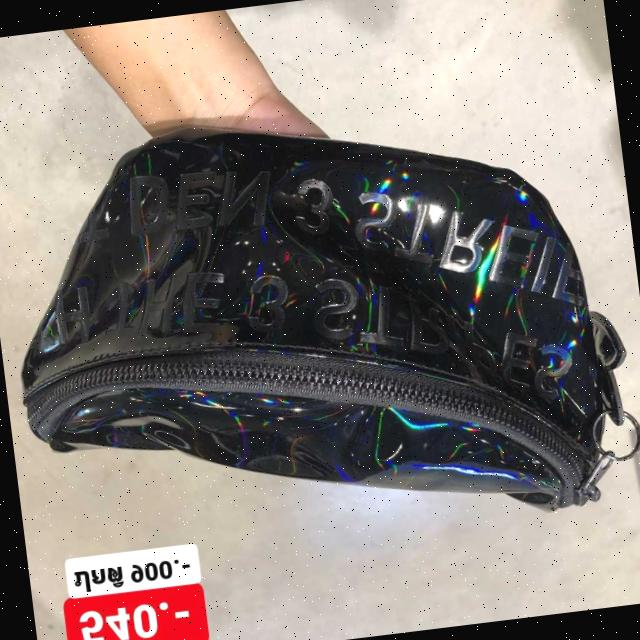Handbag: (0, 63, 640, 594)
